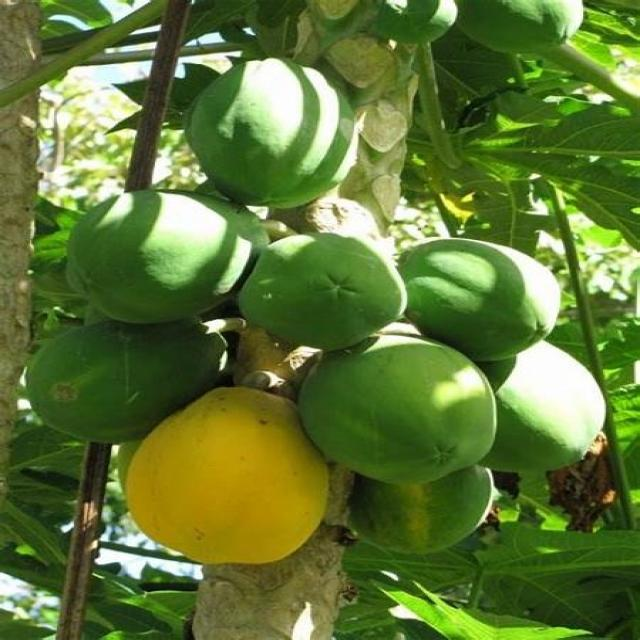Pepaya rippen: (124, 385, 334, 572)
Pepaya unrippen: (186, 48, 374, 213), (54, 186, 252, 322), (317, 335, 501, 481), (13, 320, 233, 422), (240, 228, 401, 350), (406, 232, 568, 353), (489, 358, 610, 472), (355, 482, 495, 548)
